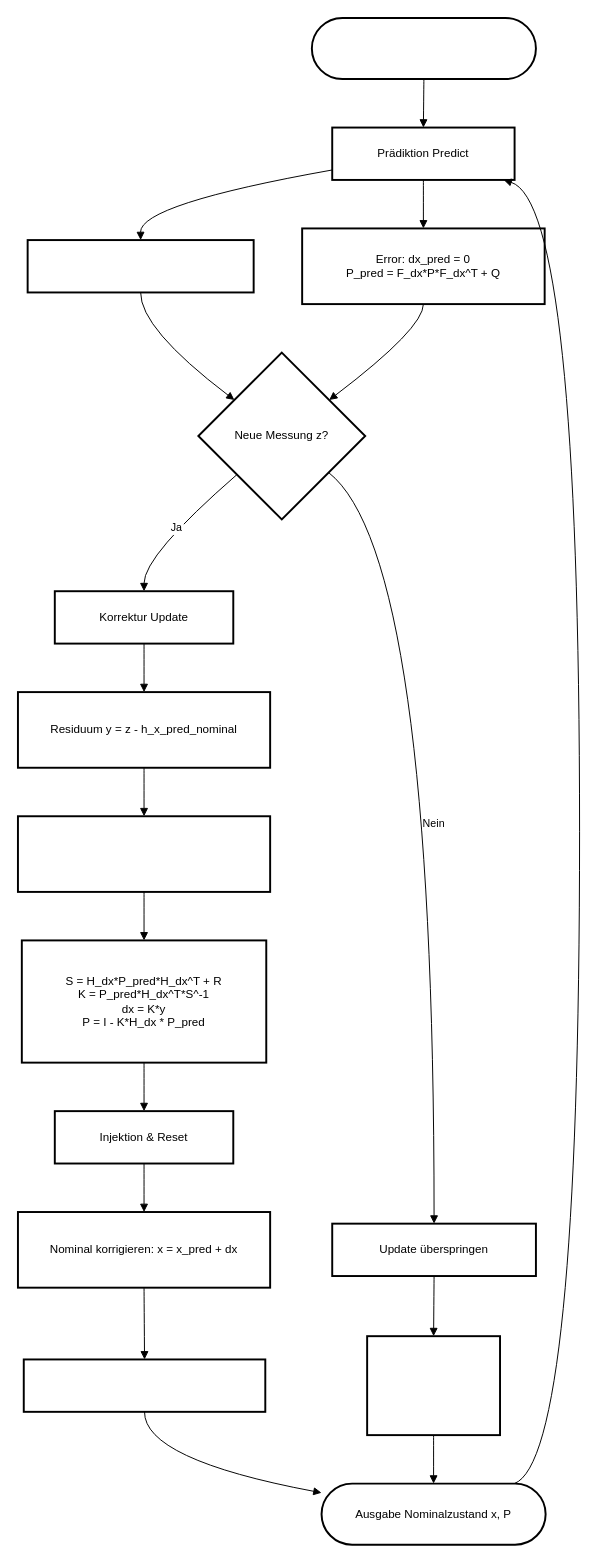
The diagram is 597 pixels wide and 1562 high, and some of its shapes have lost their labels. The centre of each missing label's shape, as x and y in pixels:
"Berechne H_dx = H_x * X_dx via Kettenregel" goes at [143,853].
"Error zurücksetzen: dx = 0" goes at [144,1385].
"Nominal: x_pred = f_x,u" goes at [140,266].
"Start: Nominal x, Error dx=0" goes at [423,48].
"x = x_pred dx = 0 P = P_pred" goes at [433,1385].
